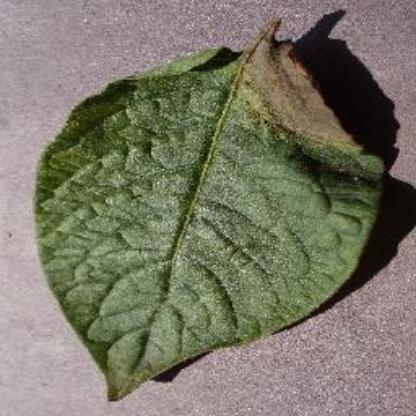Late-Blight: (29, 20, 387, 400)
